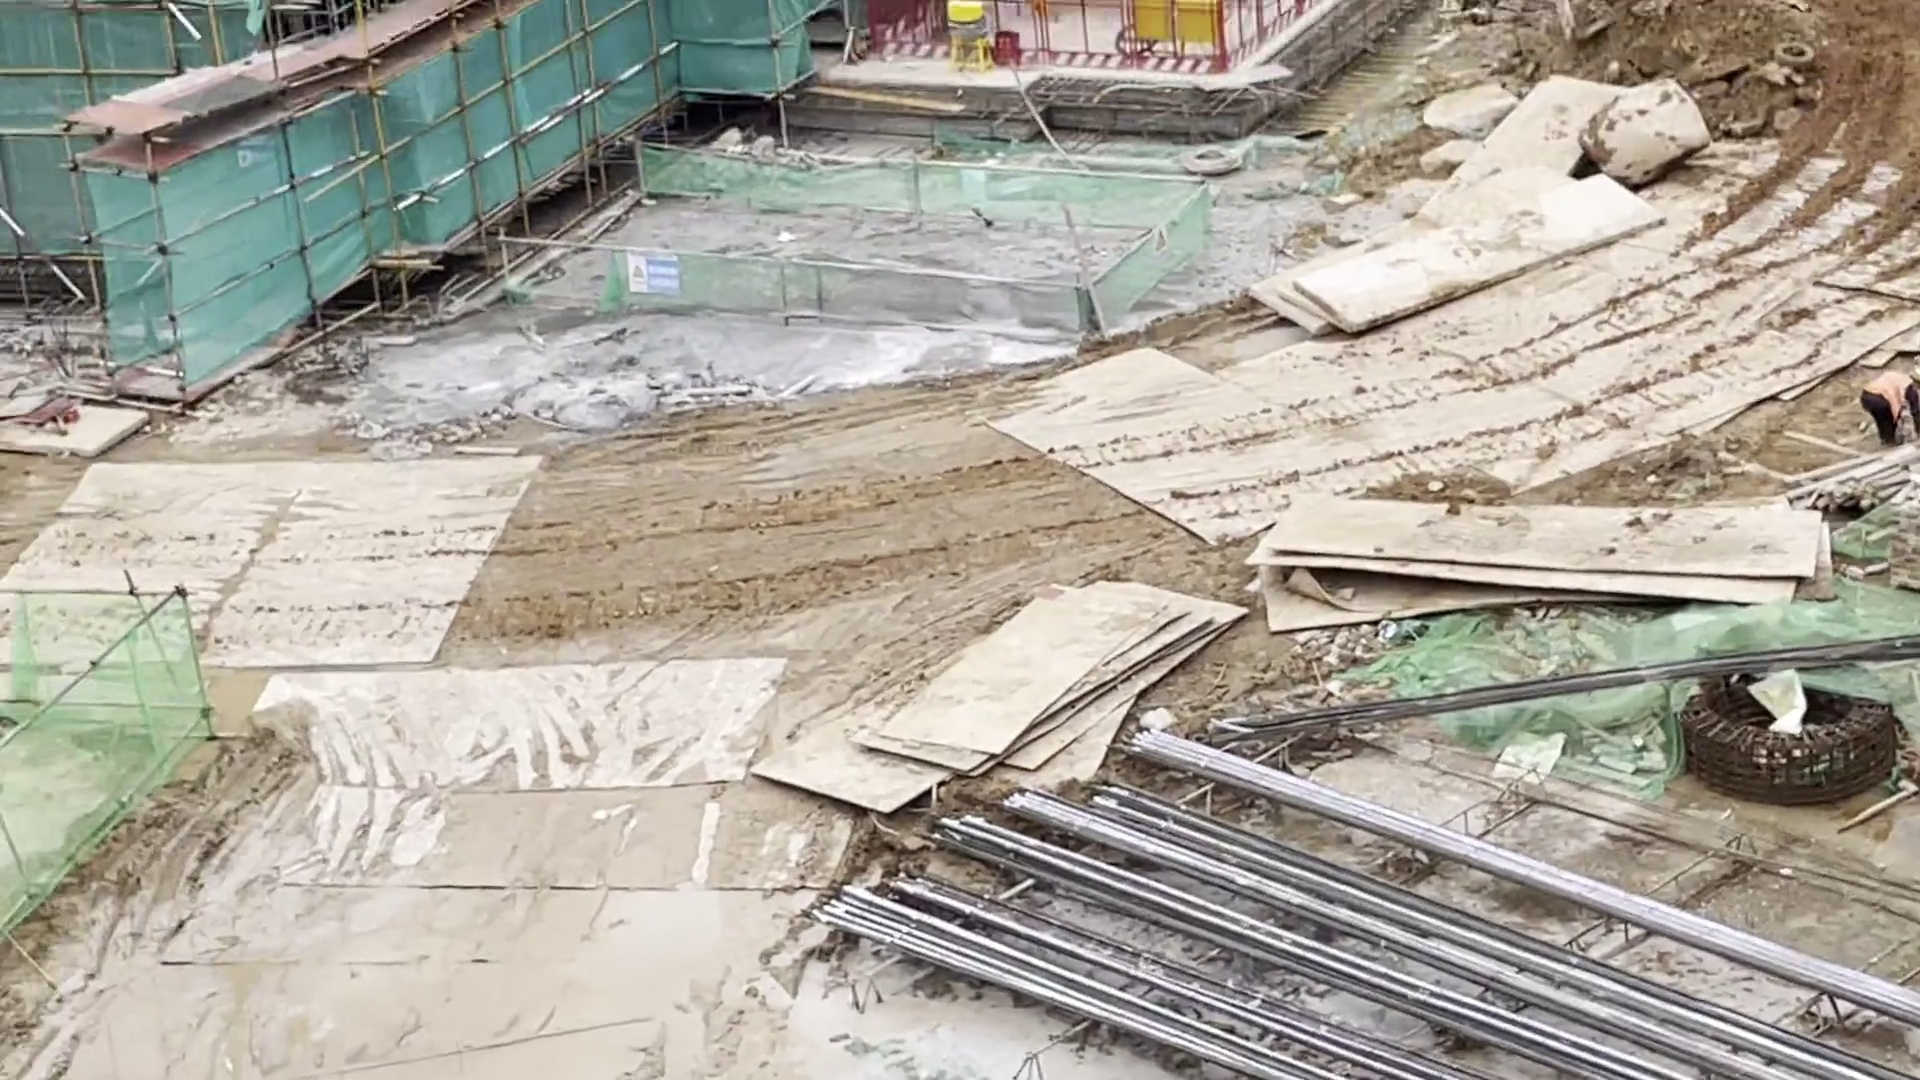ebox: (1127, 1, 1222, 49)
person: (1861, 344, 1920, 438)
rebar: (942, 796, 1833, 1067)
vest: (1866, 359, 1914, 420)
